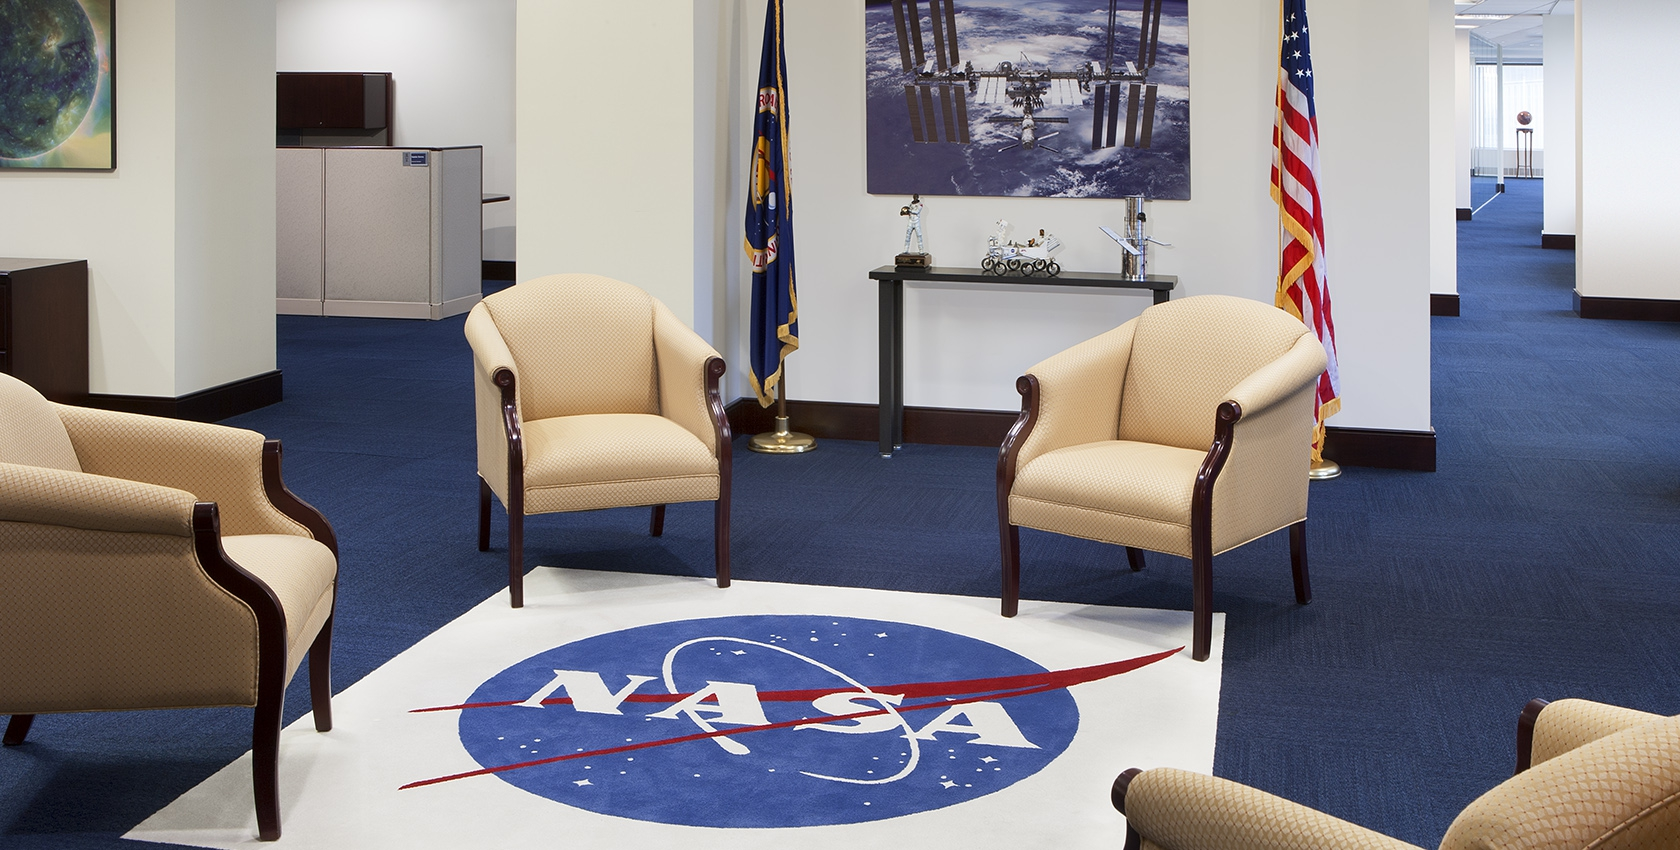NASA: (393, 593, 1193, 826)
